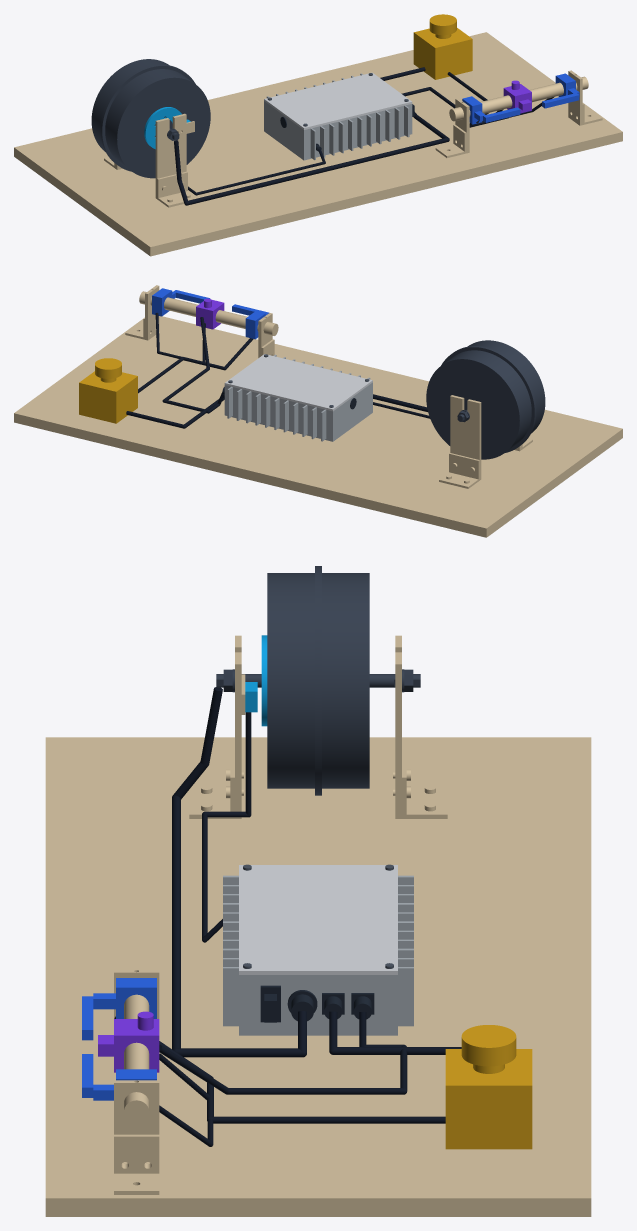
3 renders of one model, top to bottom at view 1: azimuth 30°, elevation 25°; view 2: azimuth 150°, elevation 25°; view 3: azimuth 270°, elevation 25°, orthographic. The views are drawn at different scales.
Visible parts, largest first — view 1: Bench rig (prototype only), Reference hub motor, 250 W geared, Enclosure: finned tube and floor plate, Lid and lid gasket, Wiring harness, keyed connectors, E-stop station, twin NC, Brake levers with interlock switches (pair), Key switch and throttle pod, Independent speed sensor; view 2: Bench rig (prototype only), Reference hub motor, 250 W geared, Enclosure: finned tube and floor plate, Lid and lid gasket, E-stop station, twin NC, Wiring harness, keyed connectors, Brake levers with interlock switches (pair), Key switch and throttle pod; view 3: Bench rig (prototype only), Reference hub motor, 250 W geared, Lid and lid gasket, Wiring harness, keyed connectors, Enclosure: finned tube and floor plate, E-stop station, twin NC, Brake levers with interlock switches (pair), Connector set and vent, Key switch and throttle pod, Independent speed sensor.
Part boxes in pixels (left/top/right/bottom): Bench rig (prototype only): left=14, top=32, right=622, bottom=256; Reference hub motor, 250 W geared: left=91, top=59, right=210, bottom=178; Enclosure: finned tube and floor plate: left=264, top=73, right=412, bottom=160; Lid and lid gasket: left=264, top=72, right=412, bottom=129; Wiring harness, keyed connectors: left=174, top=67, right=553, bottom=205; E-stop station, twin NC: left=413, top=14, right=472, bottom=79; Brake levers with interlock switches (pair): left=462, top=73, right=579, bottom=124; Key switch and throttle pod: left=503, top=80, right=531, bottom=113; Independent speed sensor: left=144, top=107, right=190, bottom=149; Bench rig (prototype only): left=14, top=285, right=622, bottom=537; Reference hub motor, 250 W geared: left=426, top=340, right=545, bottom=459; Enclosure: finned tube and floor plate: left=224, top=354, right=372, bottom=441; Lid and lid gasket: left=224, top=354, right=372, bottom=411; E-stop station, twin NC: left=79, top=358, right=137, bottom=423; Wiring harness, keyed connectors: left=126, top=312, right=430, bottom=428; Brake levers with interlock switches (pair): left=152, top=288, right=268, bottom=339; Key switch and throttle pod: left=196, top=298, right=224, bottom=329; Bench rig (prototype only): left=45, top=635, right=591, bottom=1216; Reference hub motor, 250 W geared: left=216, top=566, right=420, bottom=795; Lid and lid gasket: left=239, top=865, right=397, bottom=974; Wiring harness, keyed connectors: left=114, top=687, right=461, bottom=1146; Enclosure: finned tube and floor plate: left=223, top=875, right=413, bottom=1035; E-stop station, twin NC: left=445, top=1025, right=532, bottom=1149; Brake levers with interlock switches (pair): left=82, top=978, right=156, bottom=1100; Connector set and vent: left=260, top=985, right=374, bottom=1022; Key switch and throttle pod: left=98, top=1011, right=159, bottom=1072; Independent speed sensor: left=245, top=635, right=267, bottom=726.
Bounding box in the file's own units: 0.96 × 0.239 × 0.48.
